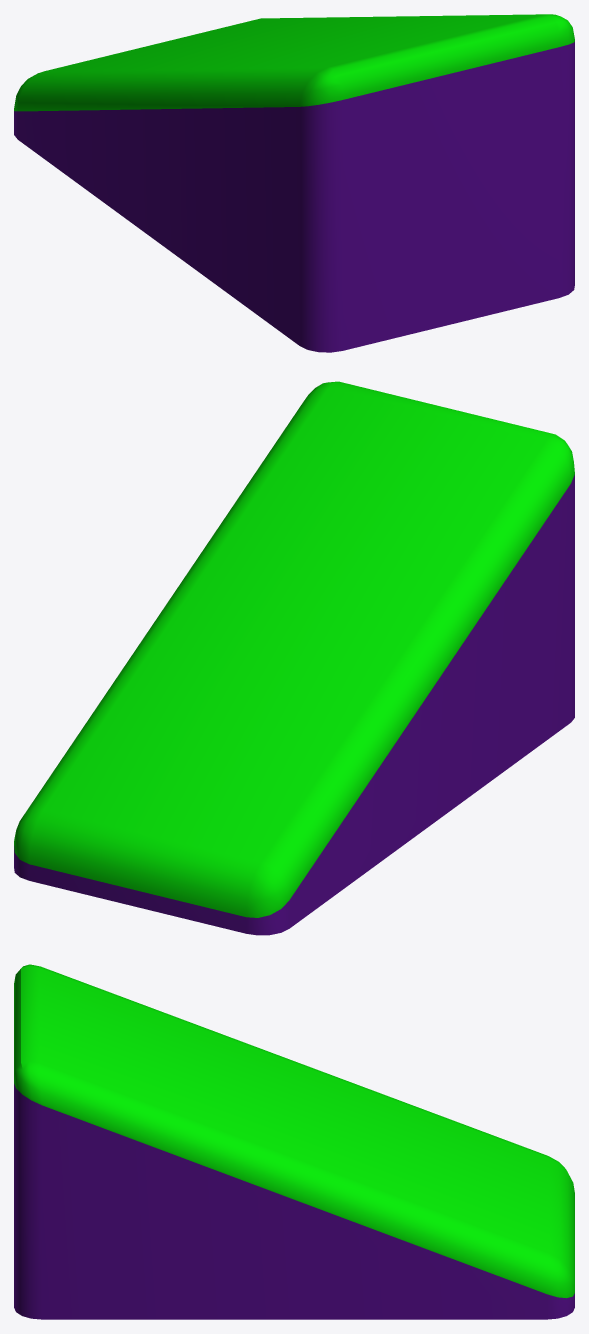
Rendered from base_slope.fbx.
The picture shows the model from 3 angles, top to bottom: view 1: azimuth 30°, elevation 25°; view 2: azimuth 150°, elevation 25°; view 3: azimuth 270°, elevation 25°; orthographic projection. The views are drawn at different scales.
Visible parts, largest first — view 1: Cube.004; view 2: Cube.004; view 3: Cube.004.
Boxes of the visible parts, left/top/right/bottom form: Cube.004: left=14, top=14, right=574, bottom=352; Cube.004: left=14, top=381, right=574, bottom=935; Cube.004: left=14, top=964, right=574, bottom=1319.
Bounding box in the file's own units: 20 × 19.41 × 40.
